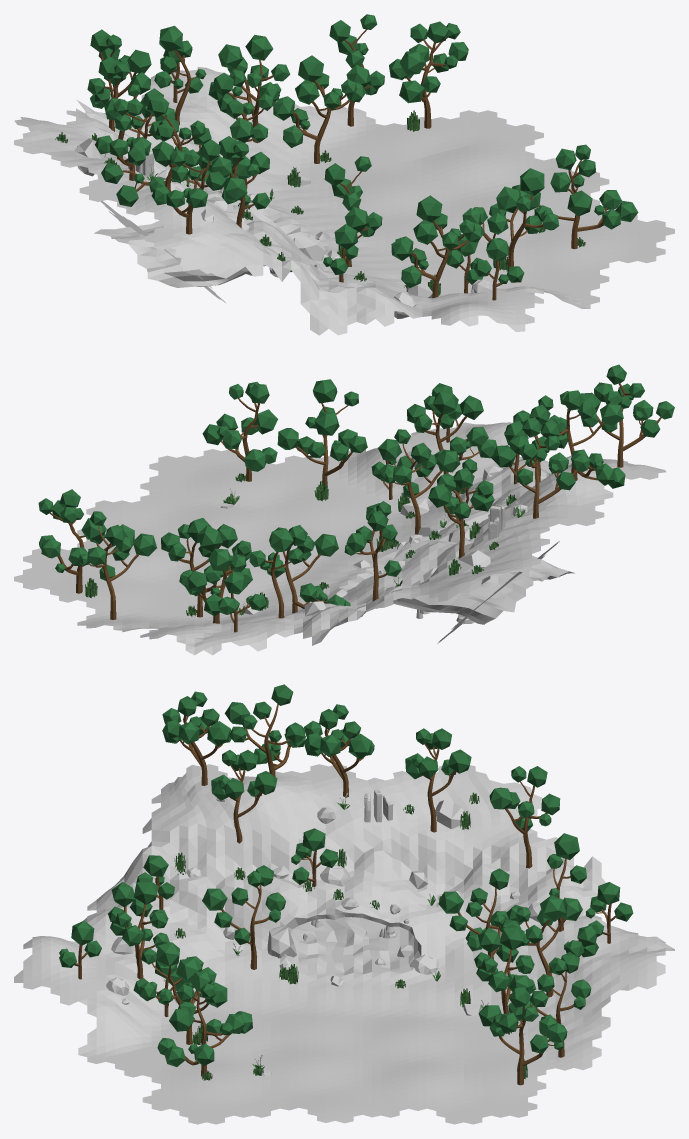
The model's file is CaveEntrance.fbx.
The picture shows the model from 3 angles, top to bottom: view 1: azimuth 30°, elevation 25°; view 2: azimuth 150°, elevation 25°; view 3: azimuth 270°, elevation 25°; orthographic projection. The views are drawn at different scales.
Parts seen in each view (by area): view 1: polySurface169, pSolid3 (×15), pSolid10 (×5), Core (×7), polySurface182, polySurface181, pSolid13, polySurface172, pSolid28, Second; view 2: polySurface169, pSolid3 (×12), pSolid10 (×5), polySurface182, Core (×7), polySurface181, SecondBranch (×3), Second (×2), pSolid13, polySurface174, pSolid21, First; view 3: polySurface169, pSolid3 (×14), pSolid10 (×5), polySurface181, polySurface182, polySurface174, pSolid13, polySurface173, polySurface172, polySurface170, pSolid28, Second.
Part boxes in pixels (x1,y1,x2,y2): polySurface169: (14, 67, 674, 335); pSolid3 (×15): (95, 21, 638, 287); pSolid10 (×5): (87, 14, 384, 236); Core (×7): (173, 37, 607, 298); polySurface182: (94, 220, 265, 287); polySurface181: (203, 189, 338, 259); pSolid13: (159, 25, 206, 78); polySurface172: (282, 260, 319, 303); pSolid28: (293, 234, 325, 261); Second: (122, 115, 195, 191); polySurface169: (14, 422, 666, 655); pSolid3 (×12): (38, 364, 674, 616); pSolid10 (×5): (78, 395, 567, 580); polySurface182: (393, 555, 574, 624); Core (×7): (49, 383, 661, 617); polySurface181: (321, 528, 446, 597); SecondBranch (×3): (89, 443, 477, 619); Second (×2): (283, 409, 605, 613); pSolid13: (249, 528, 302, 570); polySurface174: (420, 540, 473, 567); pSolid21: (458, 550, 490, 584); First: (356, 529, 387, 608); polySurface169: (14, 764, 674, 1124); pSolid3 (×14): (59, 684, 633, 1066); pSolid10 (×5): (202, 728, 591, 1020); polySurface181: (271, 890, 436, 993); polySurface182: (290, 916, 415, 954); polySurface174: (353, 848, 401, 899); pSolid13: (547, 833, 586, 897); polySurface173: (179, 876, 215, 916); polySurface172: (124, 846, 179, 895); polySurface170: (464, 851, 500, 889); pSolid28: (267, 925, 296, 958); Second: (243, 704, 290, 776).
Size of the model in its own units: 56 by 24.78 by 62.35.
